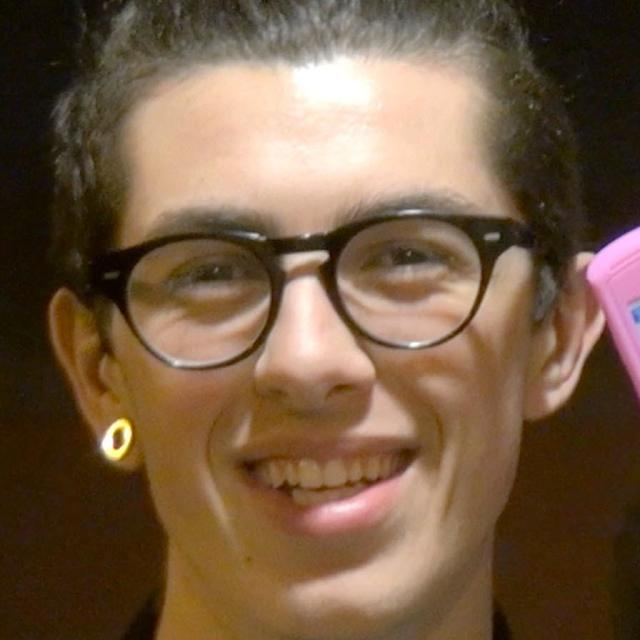Normal: (104, 64, 524, 636)
